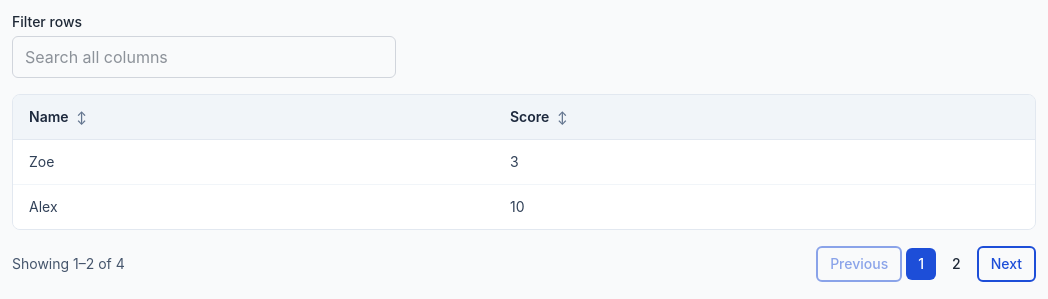
Test: DataTable › sorts values, filters rows, and paginates the result set
Click the button "Score↕". click: click(539, 117)
box: [510, 107, 567, 127]
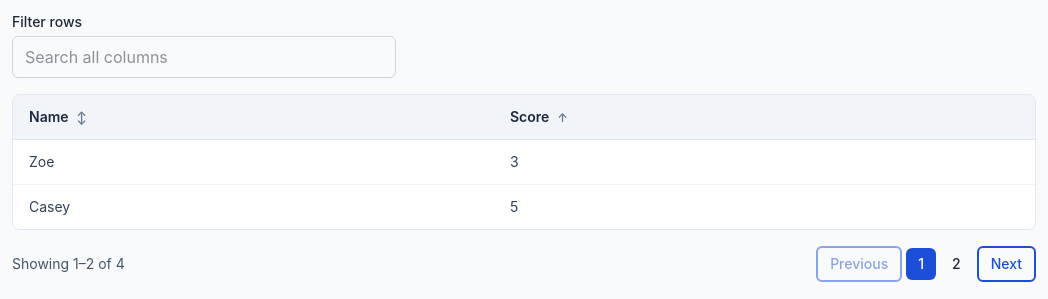
Click the button "Score↑". click: click(539, 117)
box: [510, 107, 568, 127]
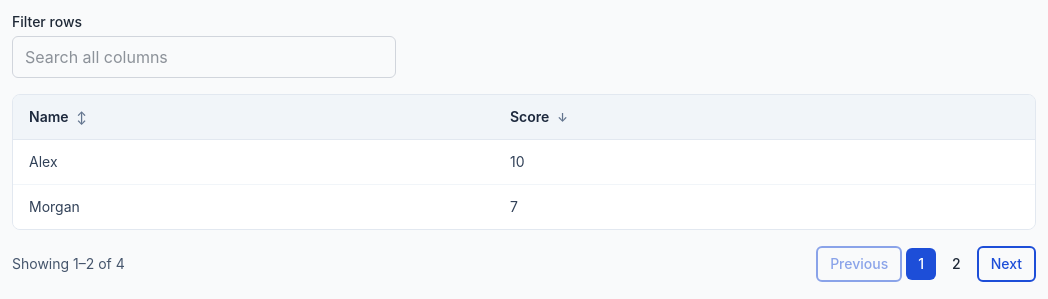
Now the row "Alex 10" is shown, box [13, 140, 1035, 184]
Click the button named "Go to page 2". click: click(956, 264)
box: [940, 248, 973, 280]
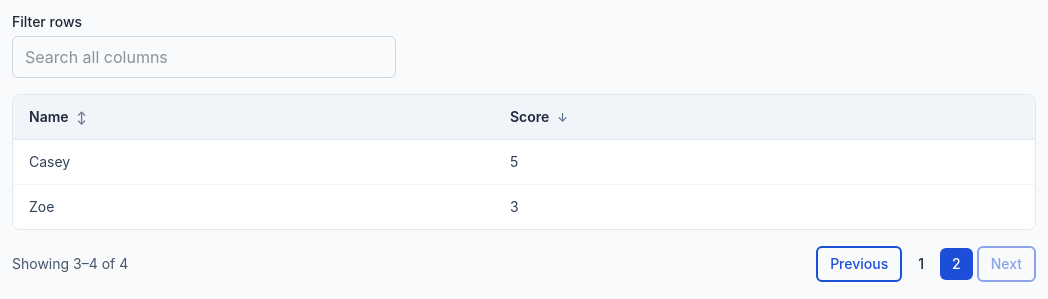
Now the row "Casey 5" is shown, box [13, 140, 1035, 184]
Type "Morgan" into the search field labelled "Filter rows". click: (204, 57)
box: [12, 36, 396, 78]
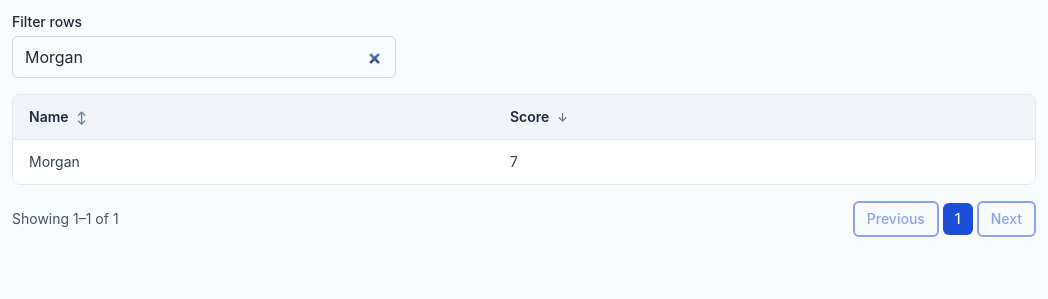
Expected: the number of rows is 2, [13, 95, 1035, 140]; [13, 140, 1035, 184]
Now the row "Morgan 7" is shown, box [13, 140, 1035, 184]
